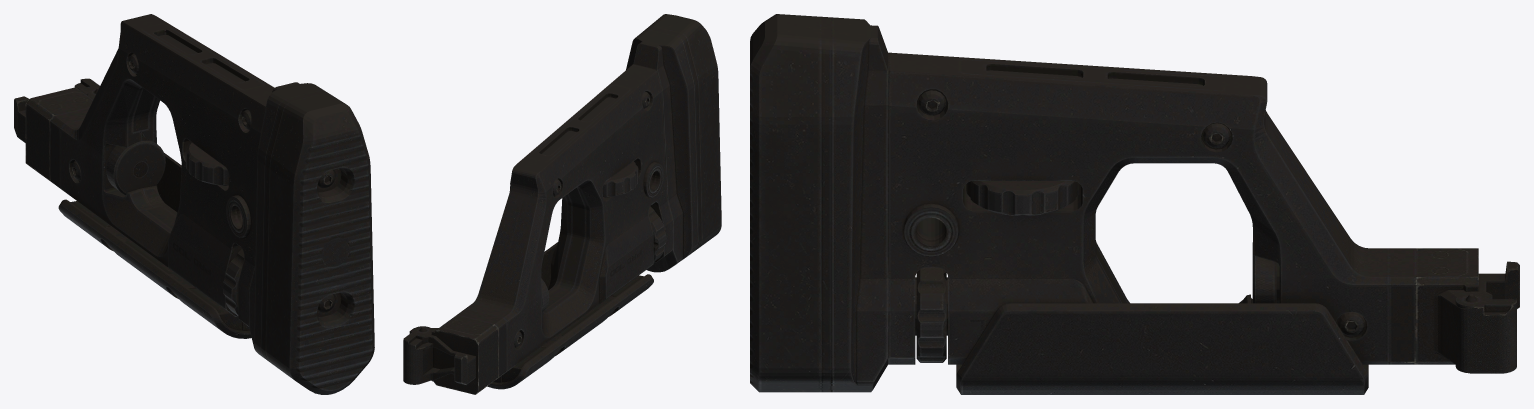
The picture shows the model from 3 angles, left to right: view 1: azimuth 30°, elevation 25°; view 2: azimuth 150°, elevation 25°; view 3: azimuth 270°, elevation 25°; orthographic projection. The views are drawn at different scales.
Visible parts, largest first — view 1: TW_5cdeac42d7f00c000d36ba73_PZ_Import; view 2: TW_5cdeac42d7f00c000d36ba73_PZ_Import; view 3: TW_5cdeac42d7f00c000d36ba73_PZ_Import.
Boxes of the visible parts, x1,y1,x2,y2 form: TW_5cdeac42d7f00c000d36ba73_PZ_Import: (14, 14, 374, 394); TW_5cdeac42d7f00c000d36ba73_PZ_Import: (403, 14, 721, 394); TW_5cdeac42d7f00c000d36ba73_PZ_Import: (750, 14, 1519, 394).
Bounding box in the file's own units: 0.0273 × 0.1461 × 0.0762.
1 material, 1 textured.
